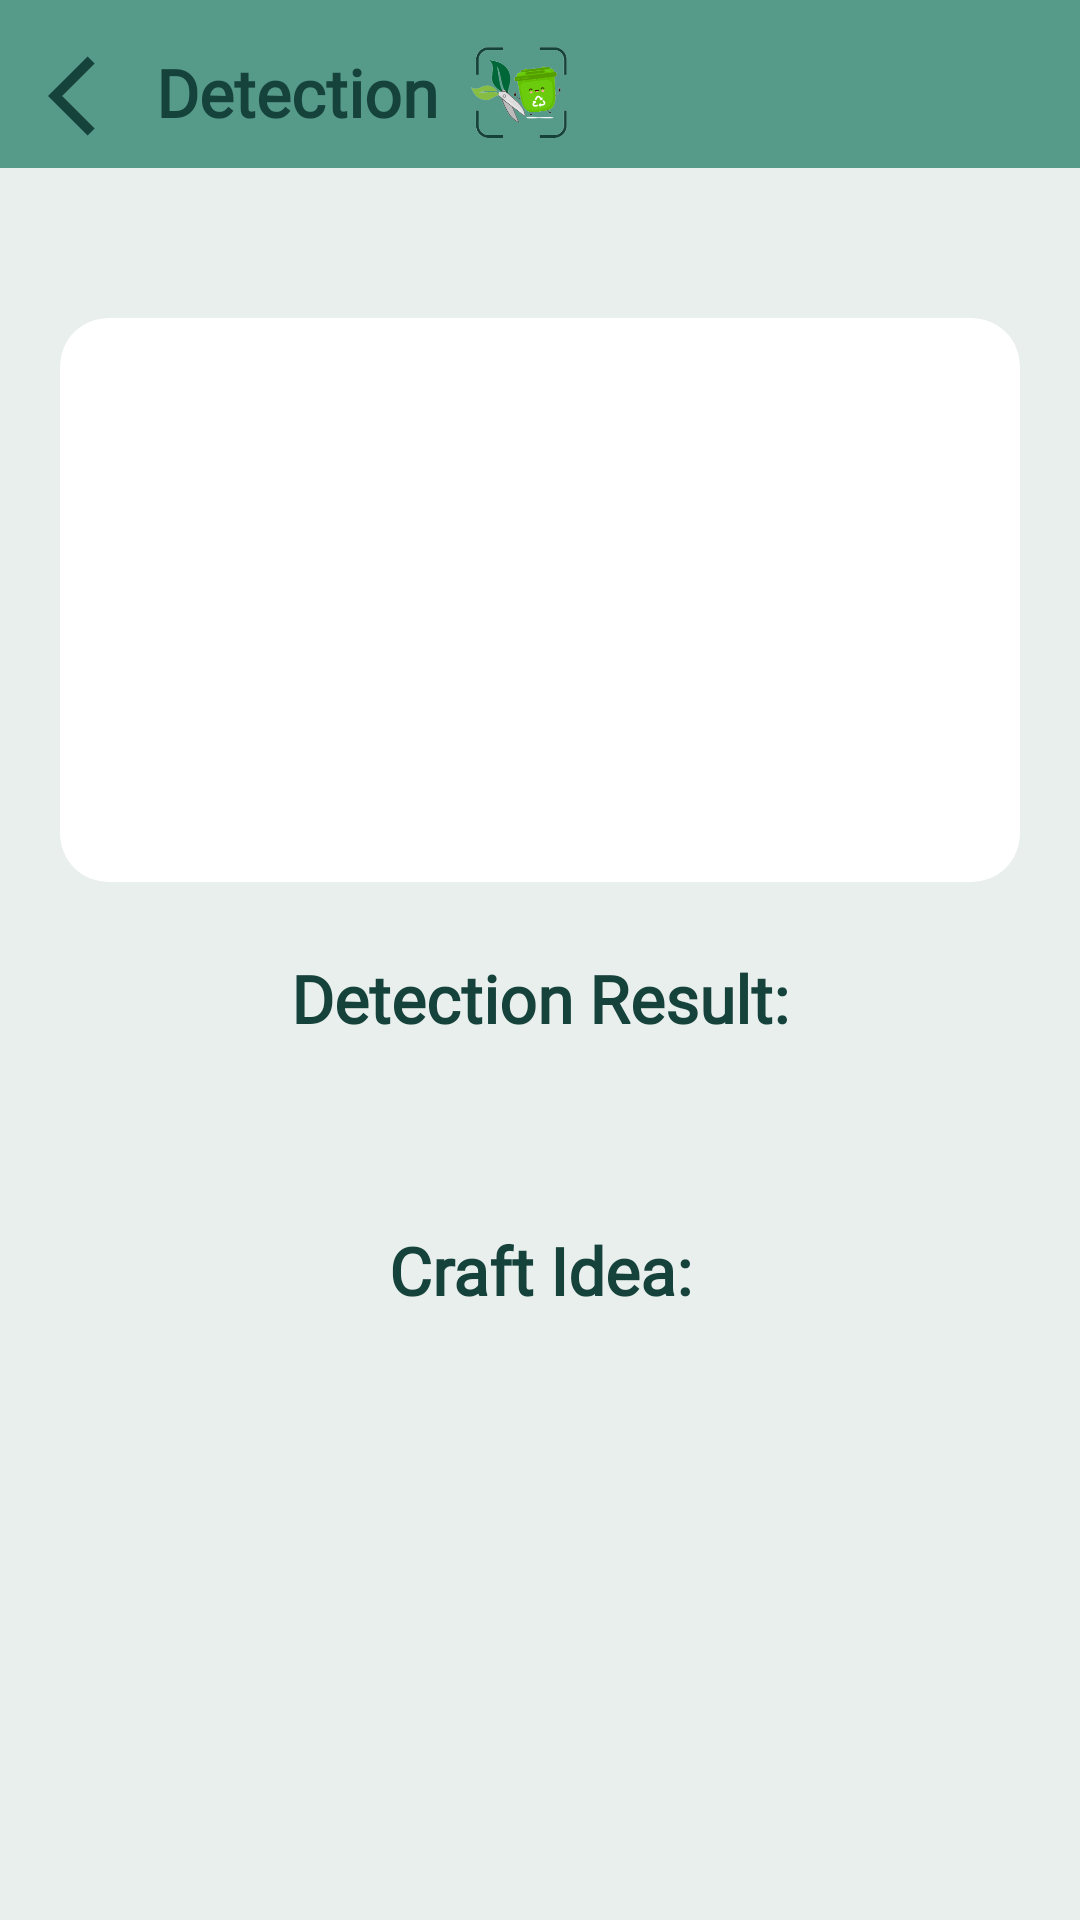

Locate icon controls on the screen. Image size 1080 x 1920, boxes as (x1, y1, x2, y2).
Back: (48, 57, 95, 135)
